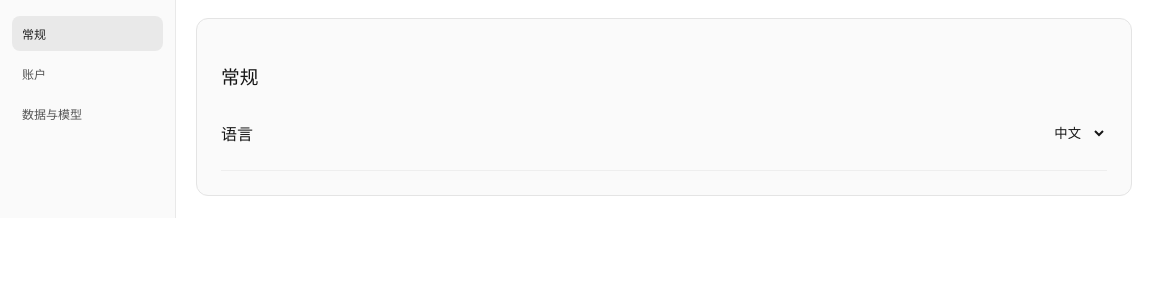
Test: Cloud account settings › requests identity recovery on expired catalog without fetching status
Step 1. Click the button "数据与模型" → coordinates (88, 114), box x1=12 y1=96 x2=163 y2=131
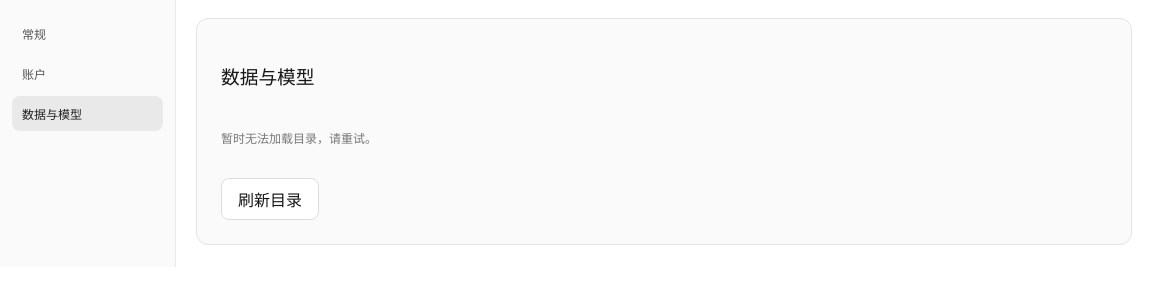
Check: the message "暂时无法加载目录，请重试。" is shown, box x1=221 y1=129 x2=377 y2=146
